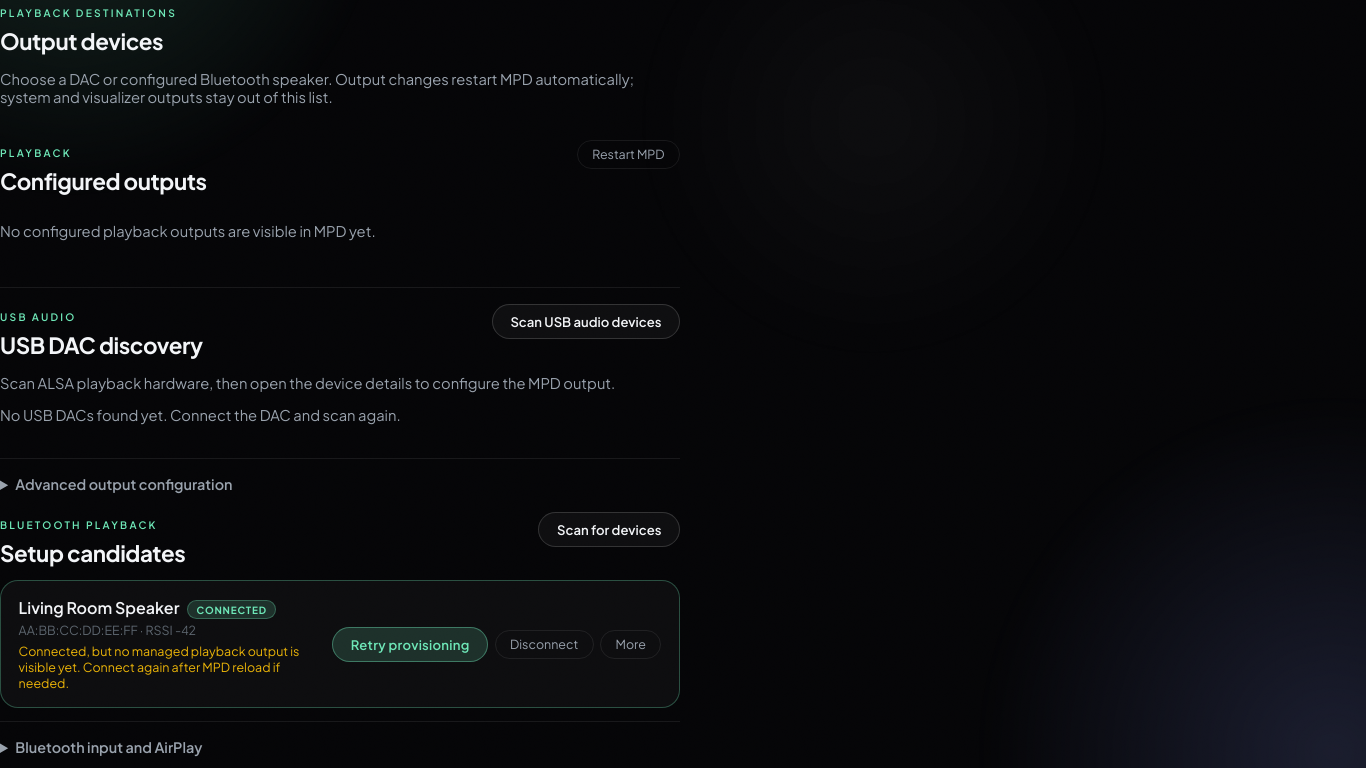
Scenario: DevicesView Bluetooth actions › keeps Bluetooth removal behind advanced confirmation
Check: the button "Disconnect" is shown, box [495, 630, 594, 659]
Check: the button "Remove output" is not shown
Click the heading "More".
click(631, 644)  # box [600, 630, 661, 659]
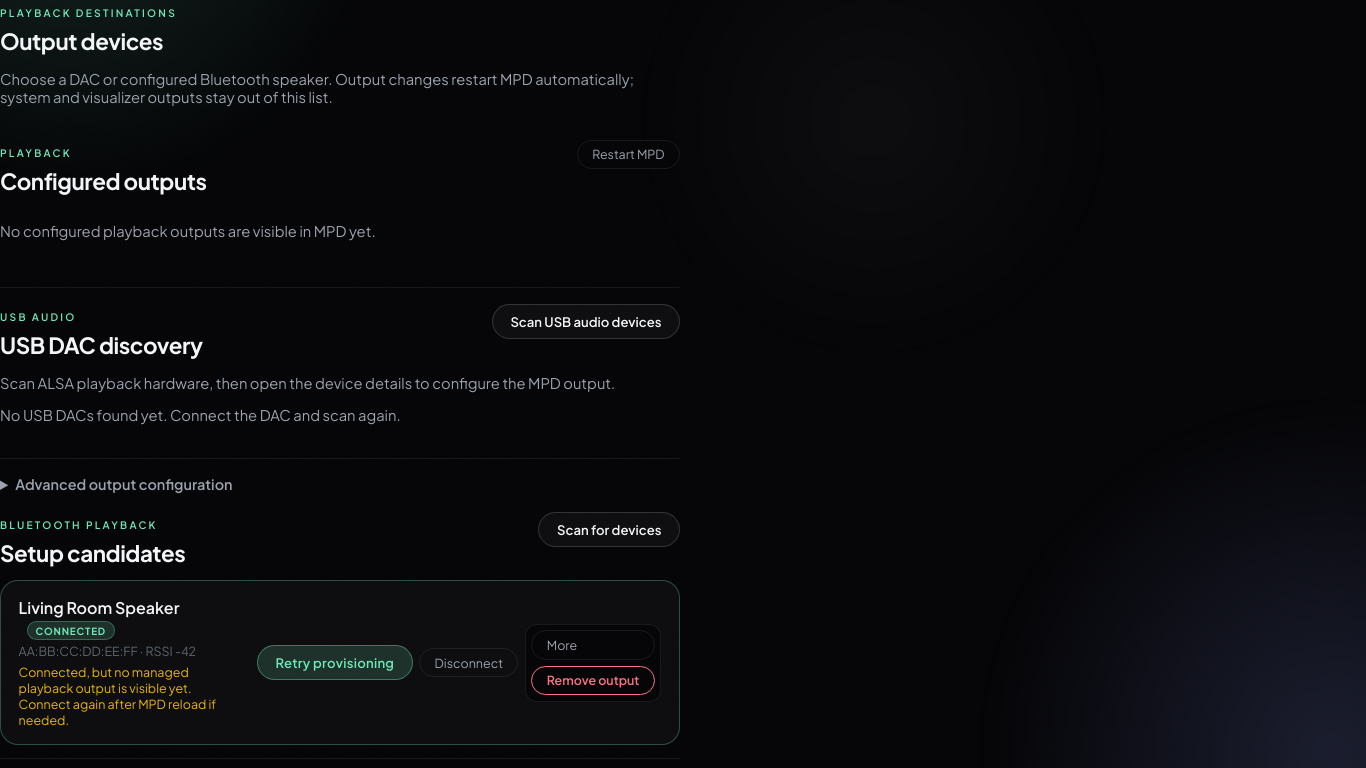
Click the button "Remove output".
click(593, 680)  # box [531, 666, 655, 695]
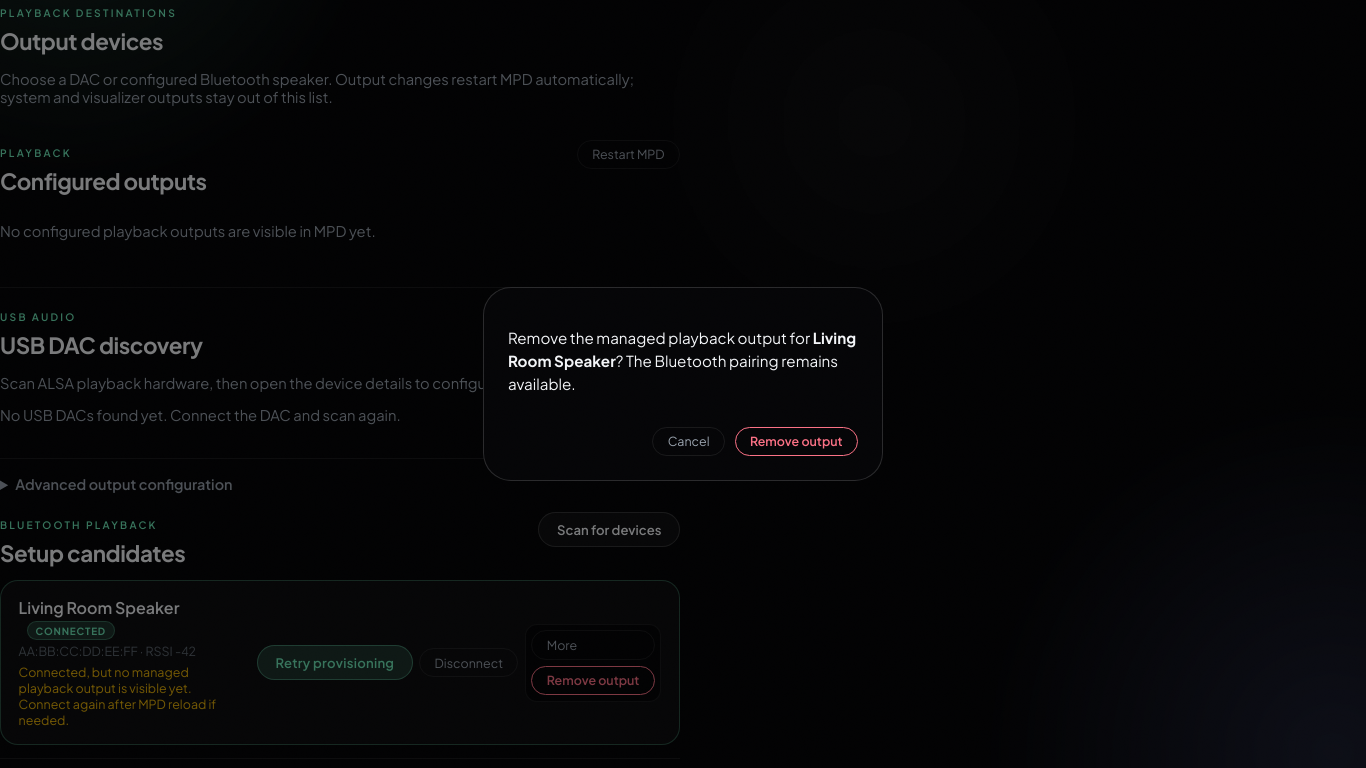
Check: the dialog is shown, box [483, 287, 883, 481]
Click the button "Cancel".
click(689, 441)  # box [652, 427, 725, 456]
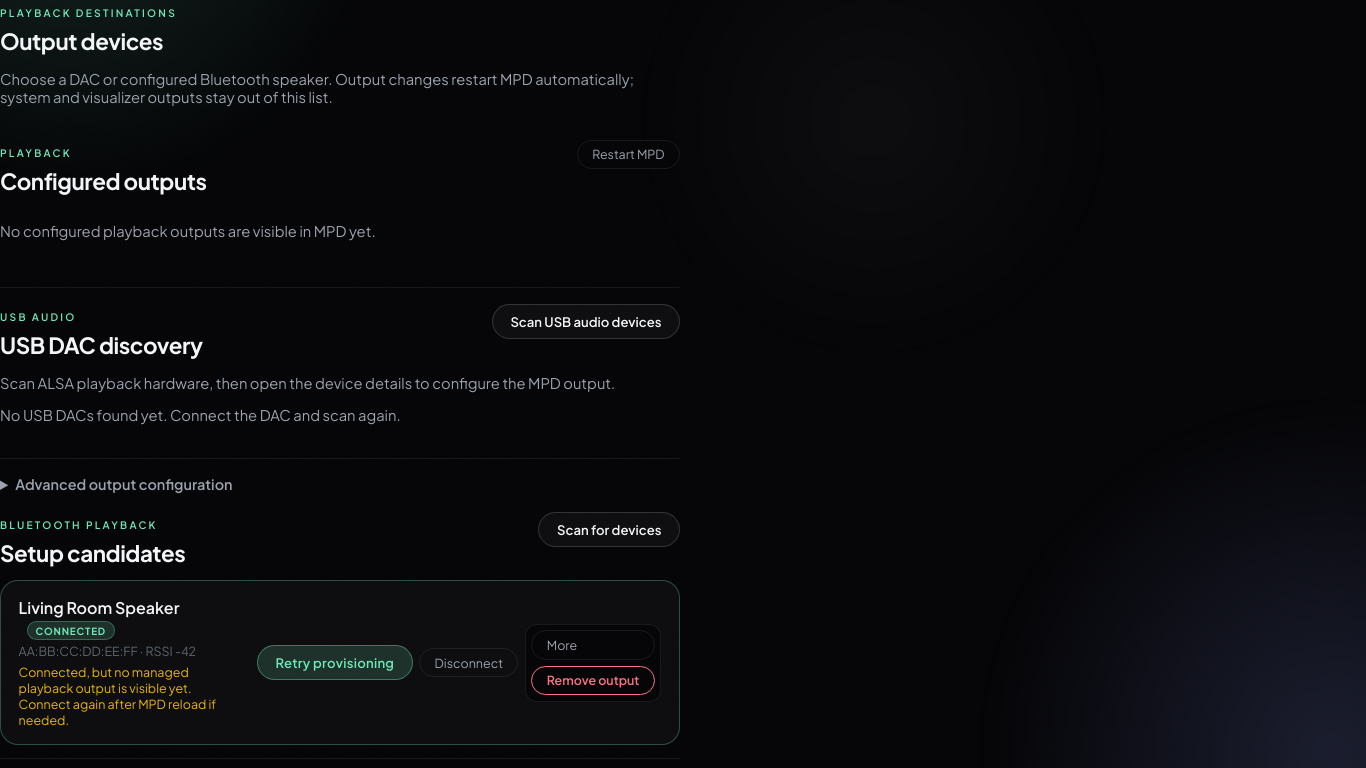
Check: the dialog is gone
